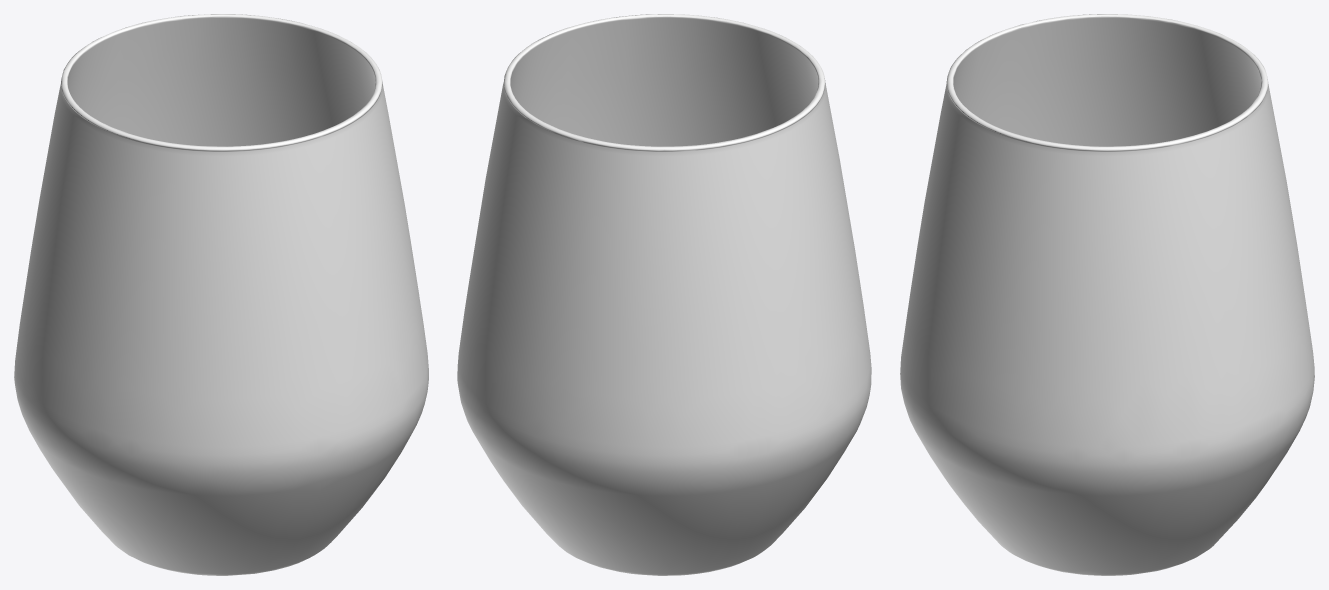
The model's file is ivrig_szklanka_50258323.glb.
3 renders of one model, left to right at view 1: azimuth 30°, elevation 25°; view 2: azimuth 150°, elevation 25°; view 3: azimuth 270°, elevation 25°, orthographic.
Visible parts, largest first — view 1: ivrig_szklanka_50258323; view 2: ivrig_szklanka_50258323; view 3: ivrig_szklanka_50258323.
Part boxes in pixels (x1,y1,x2,y2): ivrig_szklanka_50258323: (14, 14, 428, 575); ivrig_szklanka_50258323: (457, 14, 871, 575); ivrig_szklanka_50258323: (900, 14, 1314, 575).
Bounding box in the file's own units: 0.0919 × 0.11 × 0.092.
1 material, 1 textured.
